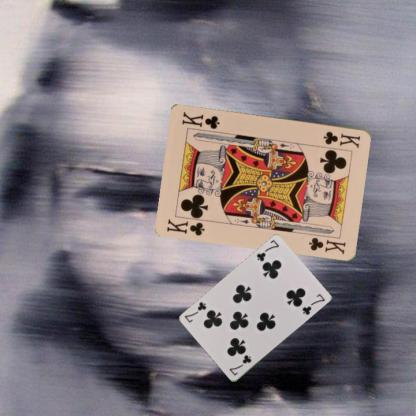7c: (226, 352, 252, 378), (254, 237, 280, 263)
Kc: (321, 128, 362, 150), (164, 216, 206, 237)
